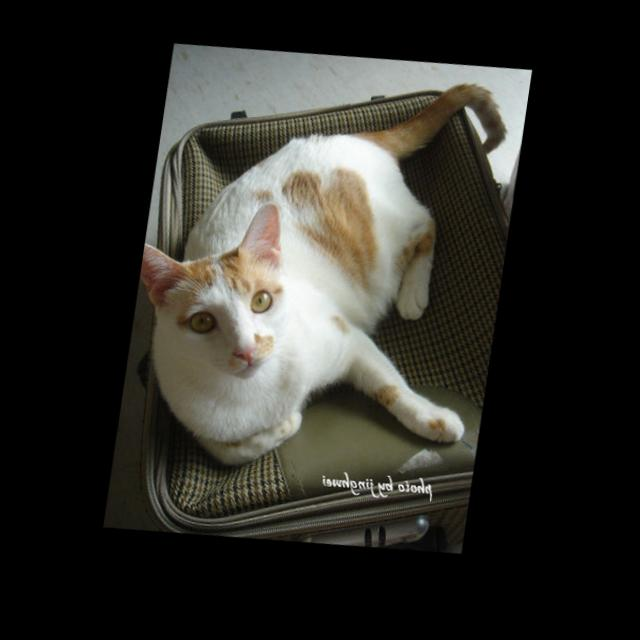animals: (129, 189, 289, 373)
